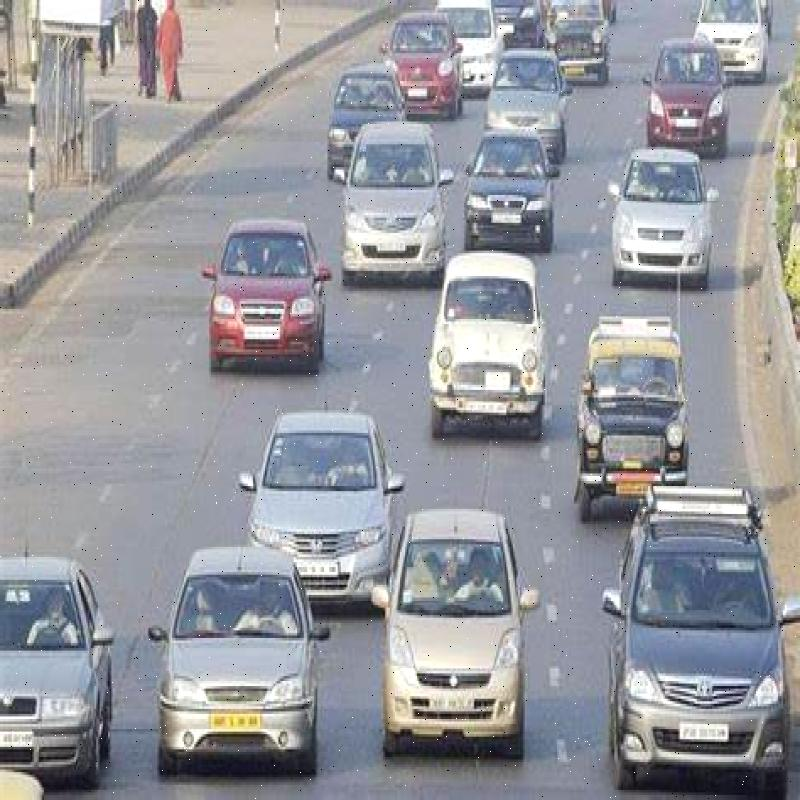car: (601, 473, 796, 800), (380, 462, 530, 754), (242, 390, 412, 634), (182, 208, 344, 384), (0, 554, 120, 788), (426, 246, 552, 442), (331, 110, 454, 304), (604, 142, 717, 296), (632, 24, 744, 160), (473, 31, 582, 166), (458, 130, 555, 252)
